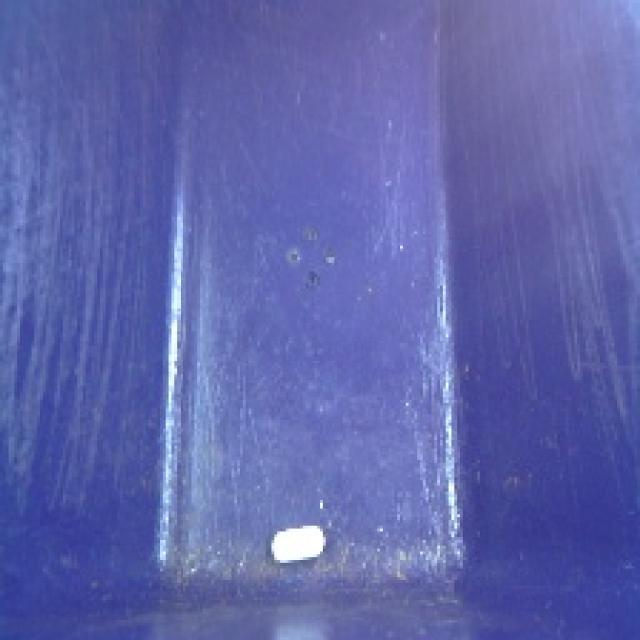small: (261, 516, 335, 569)
